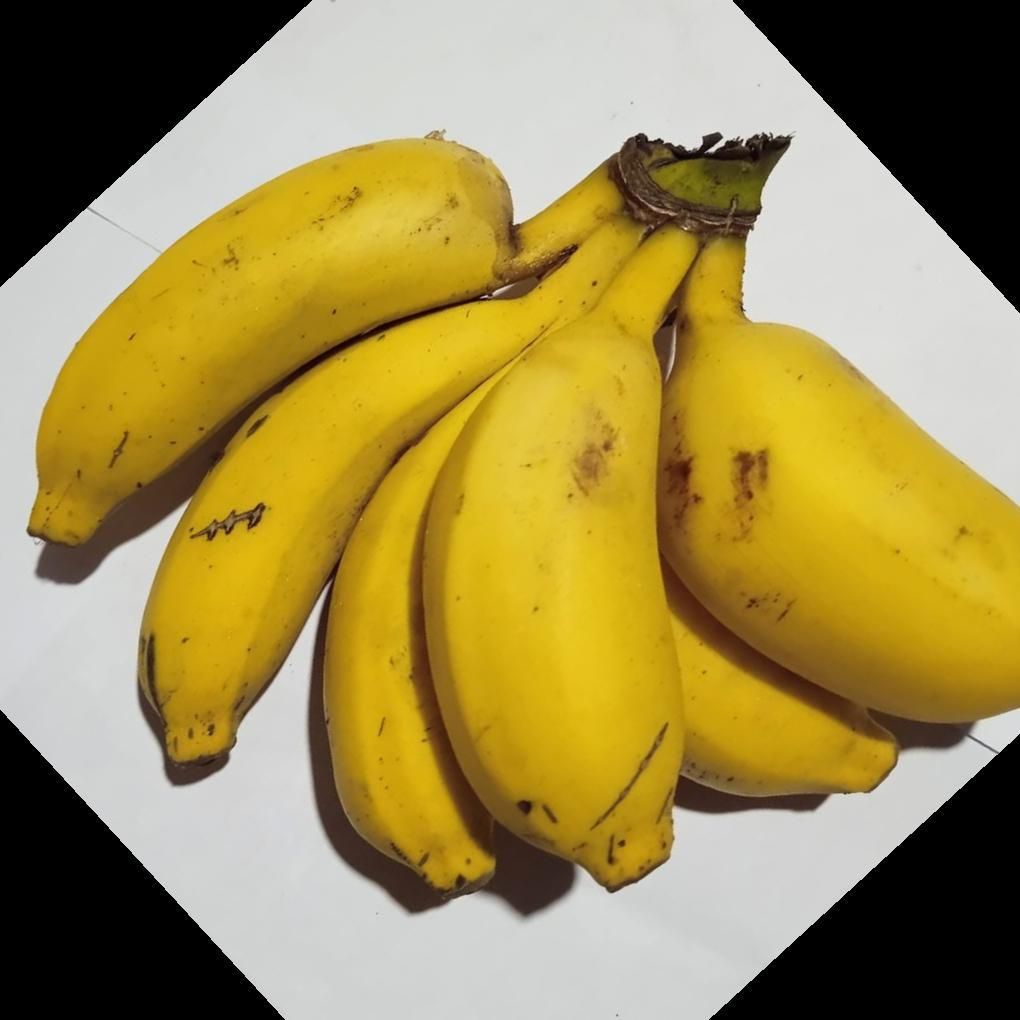Banana Ripe: (58, 114, 702, 1020), (35, 54, 503, 831), (409, 144, 714, 1020), (680, 82, 1020, 851)
